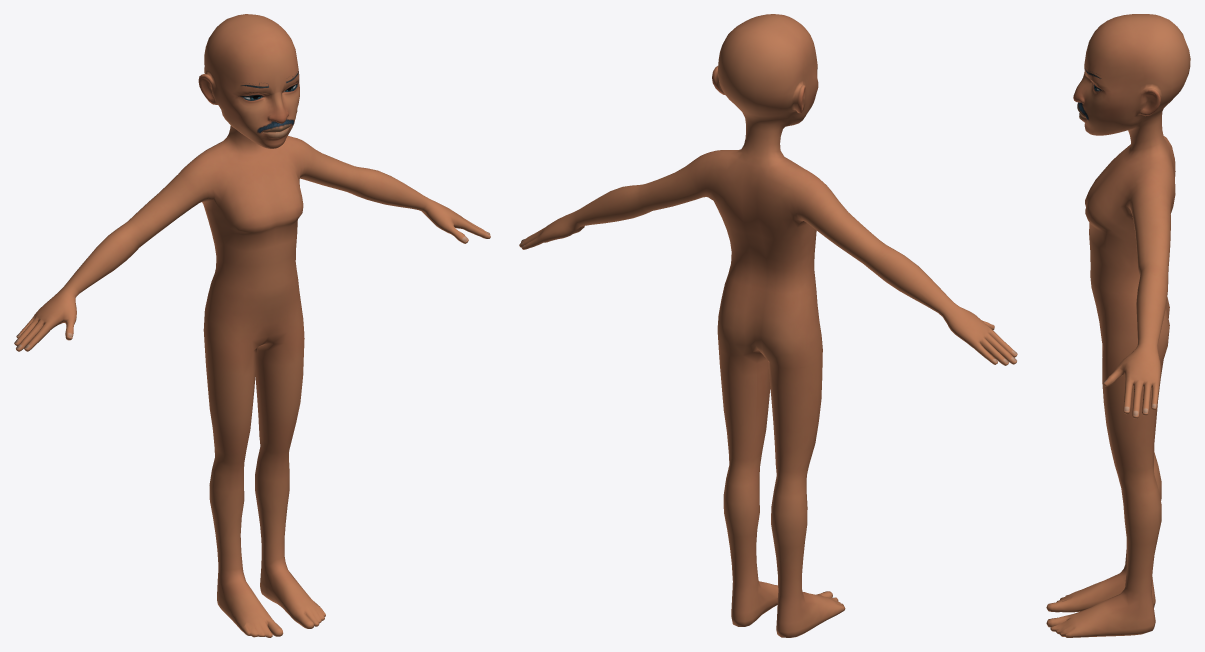
The model's file is frame_0076.glb.
The picture shows the model from 3 angles, left to right: view 1: azimuth 30°, elevation 25°; view 2: azimuth 150°, elevation 25°; view 3: azimuth 270°, elevation 25°; orthographic projection. The views are drawn at different scales.
Parts seen in each view (by area): view 1: frame_0076_head_geo; view 2: frame_0076_head_geo; view 3: frame_0076_head_geo.
Part boxes in pixels (left/top/right/bottom): frame_0076_head_geo: left=14, top=14, right=490, bottom=637; frame_0076_head_geo: left=519, top=14, right=1017, bottom=637; frame_0076_head_geo: left=1046, top=14, right=1190, bottom=637.
Bounding box in the file's own units: 1.28 × 1.5 × 0.3253.
3 materials, 3 textured.
